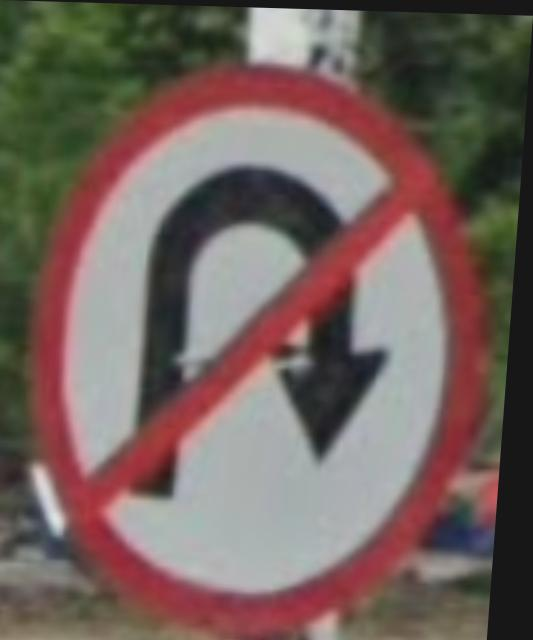not_u_turn_right: (14, 45, 518, 640)
